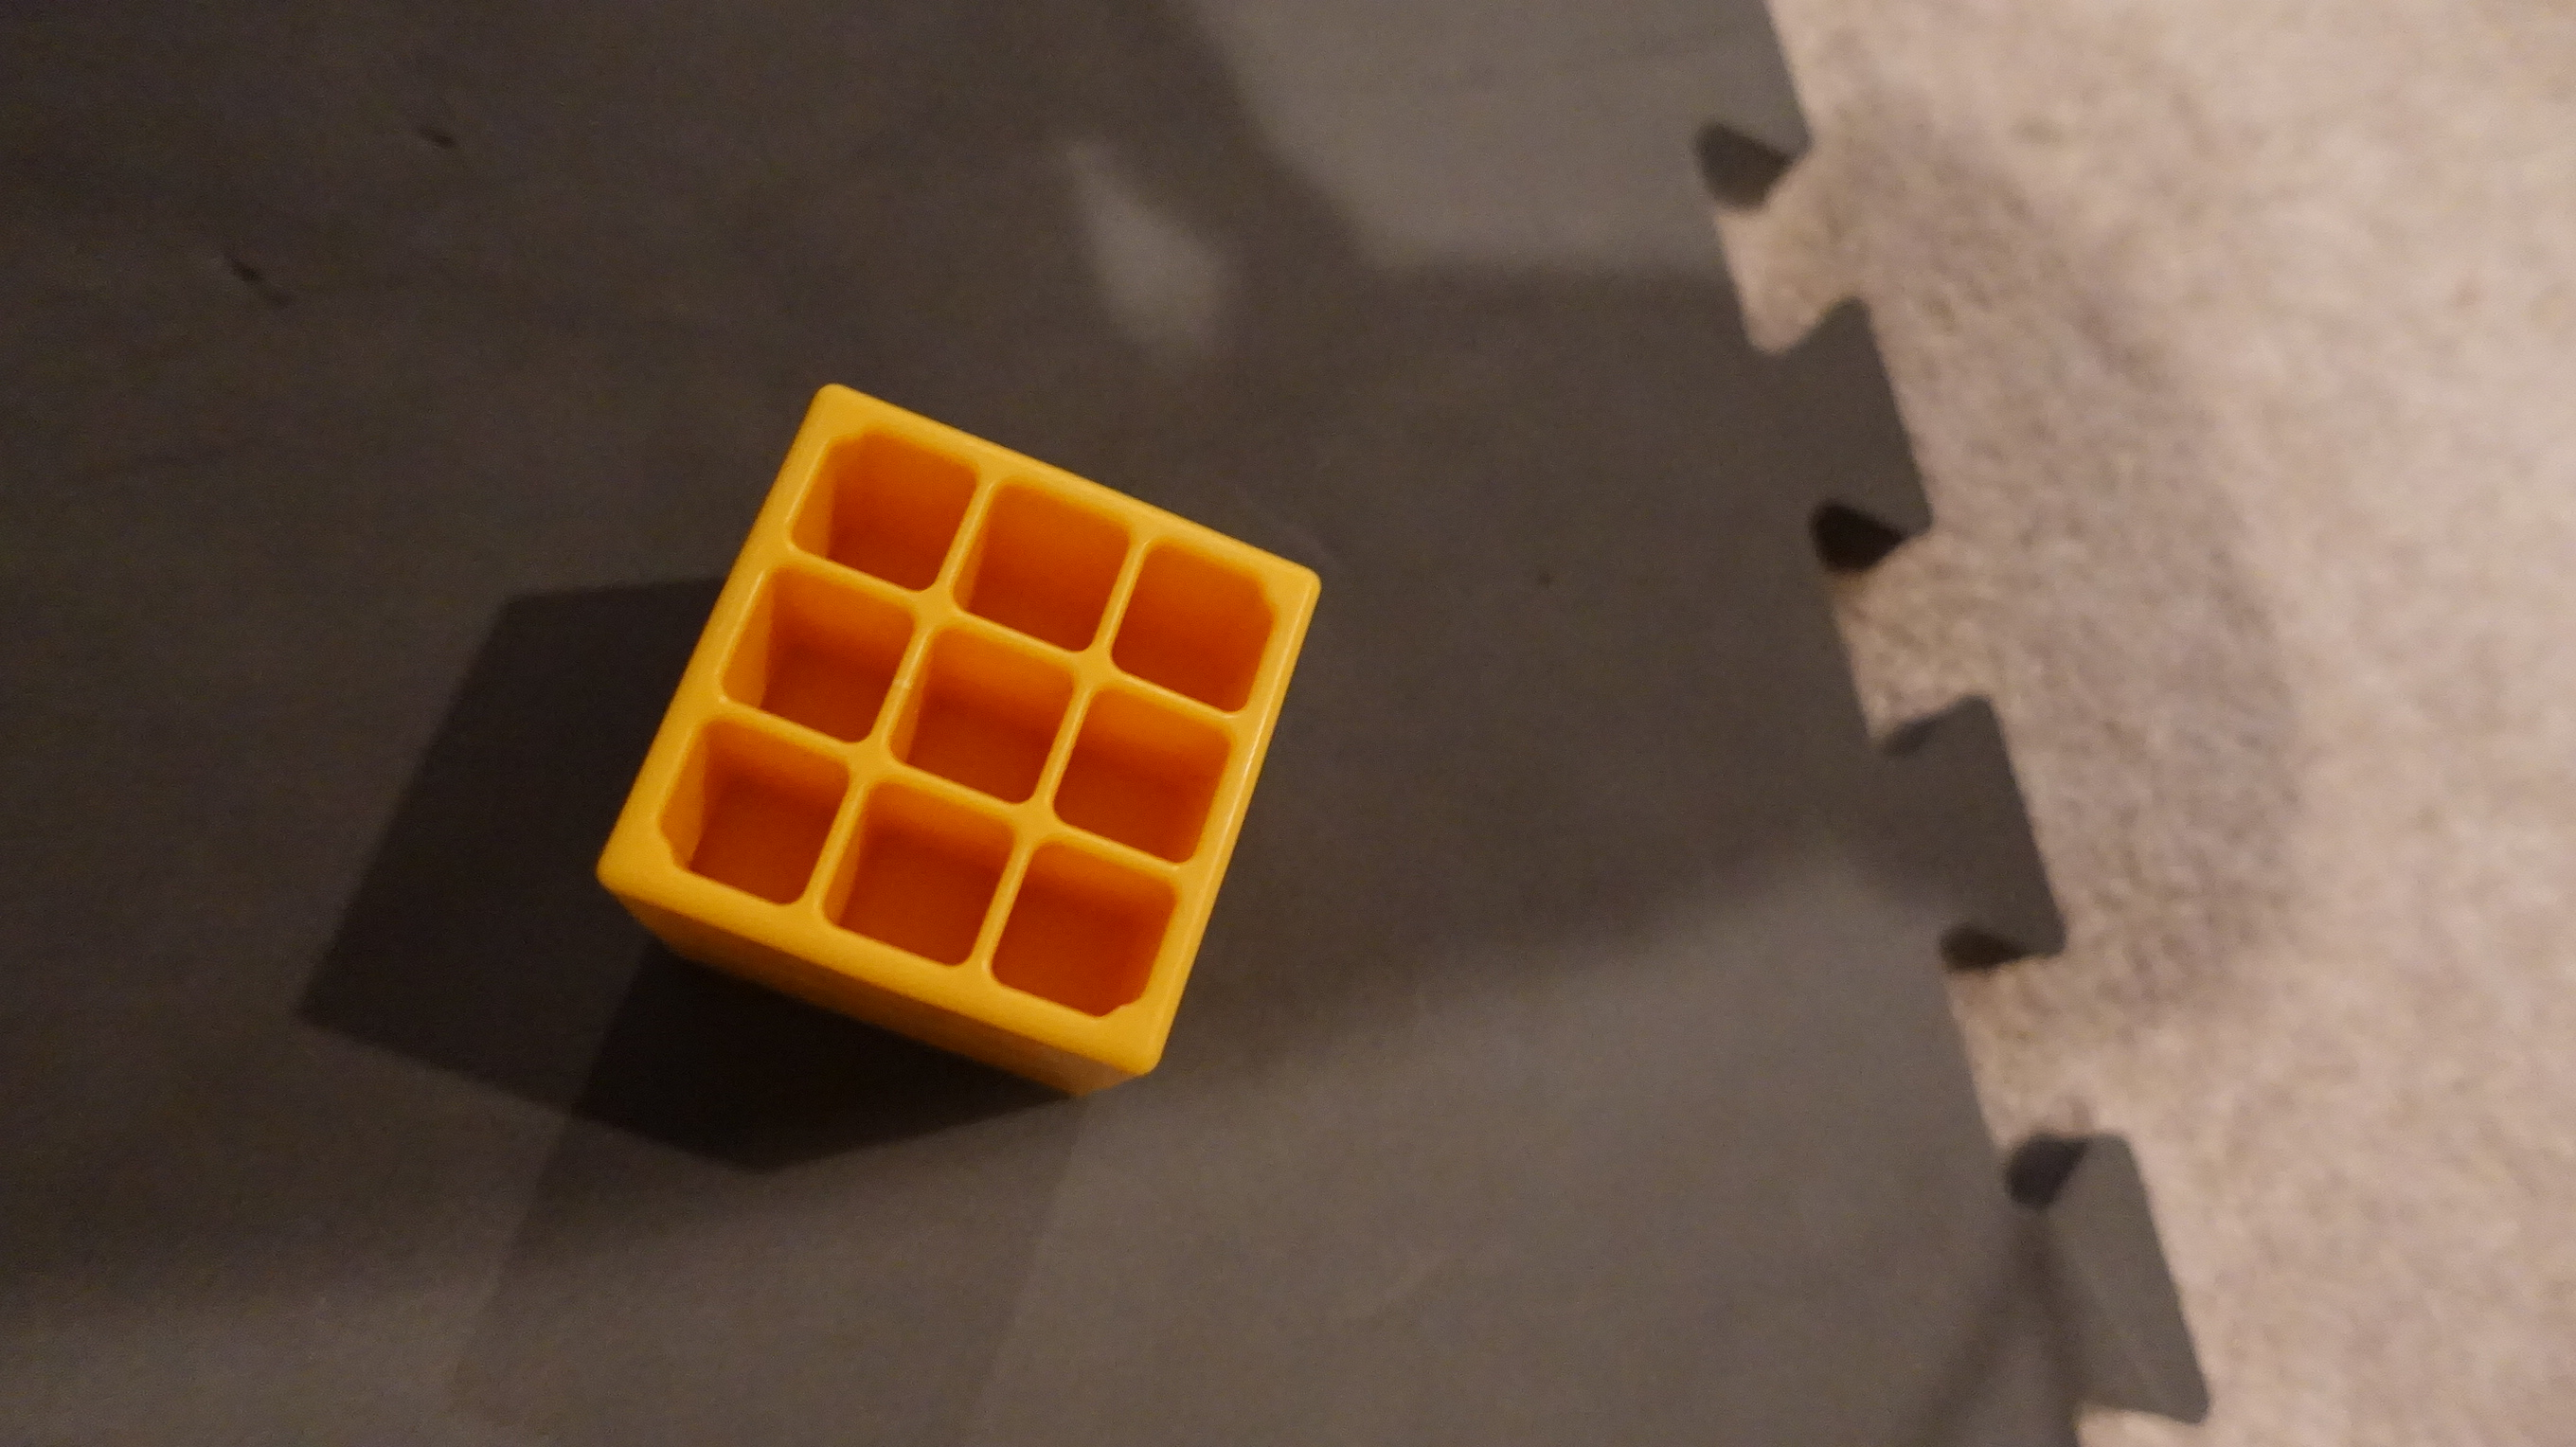gold: (587, 370, 1343, 1100)
